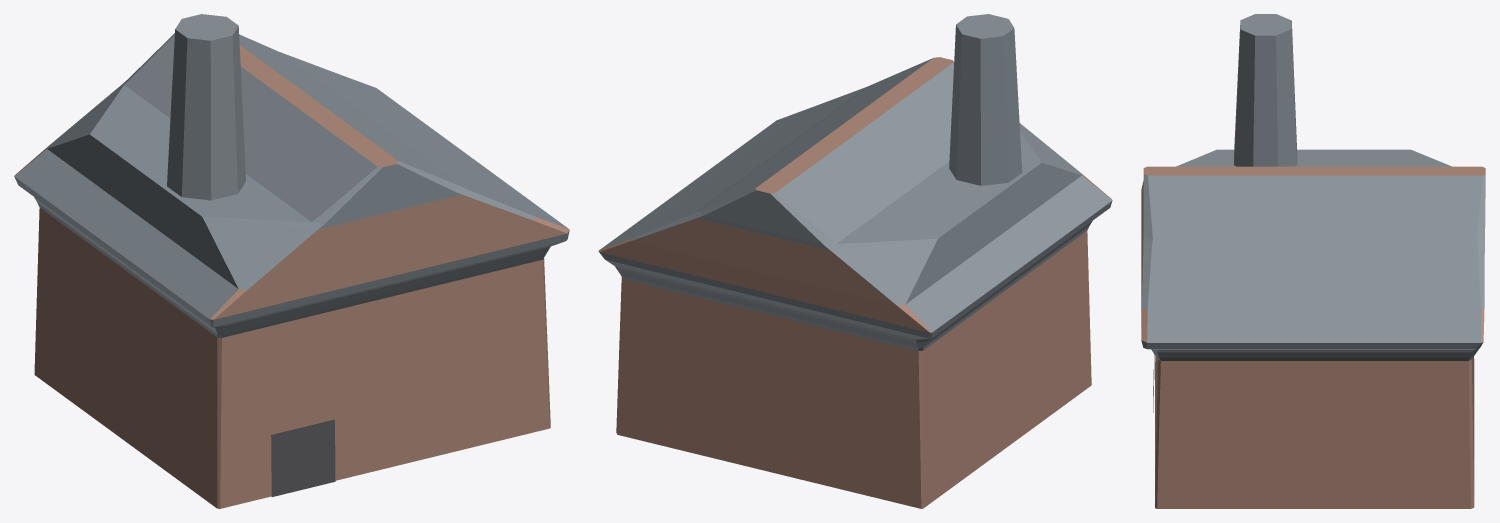
Rendered from loin.glb.
3 renders of one model, left to right at view 1: azimuth 30°, elevation 25°; view 2: azimuth 150°, elevation 25°; view 3: azimuth 270°, elevation 25°, orthographic. The views are drawn at different scales.
Parts seen in each view (by area): view 1: loin; view 2: loin; view 3: loin.
Part boxes in pixels (x1,y1,x2,y2): loin: [14, 14, 569, 508]; loin: [598, 14, 1112, 508]; loin: [1141, 14, 1485, 508].
Bounding box in the file's own units: 0.8662 × 0.9652 × 0.8247.
